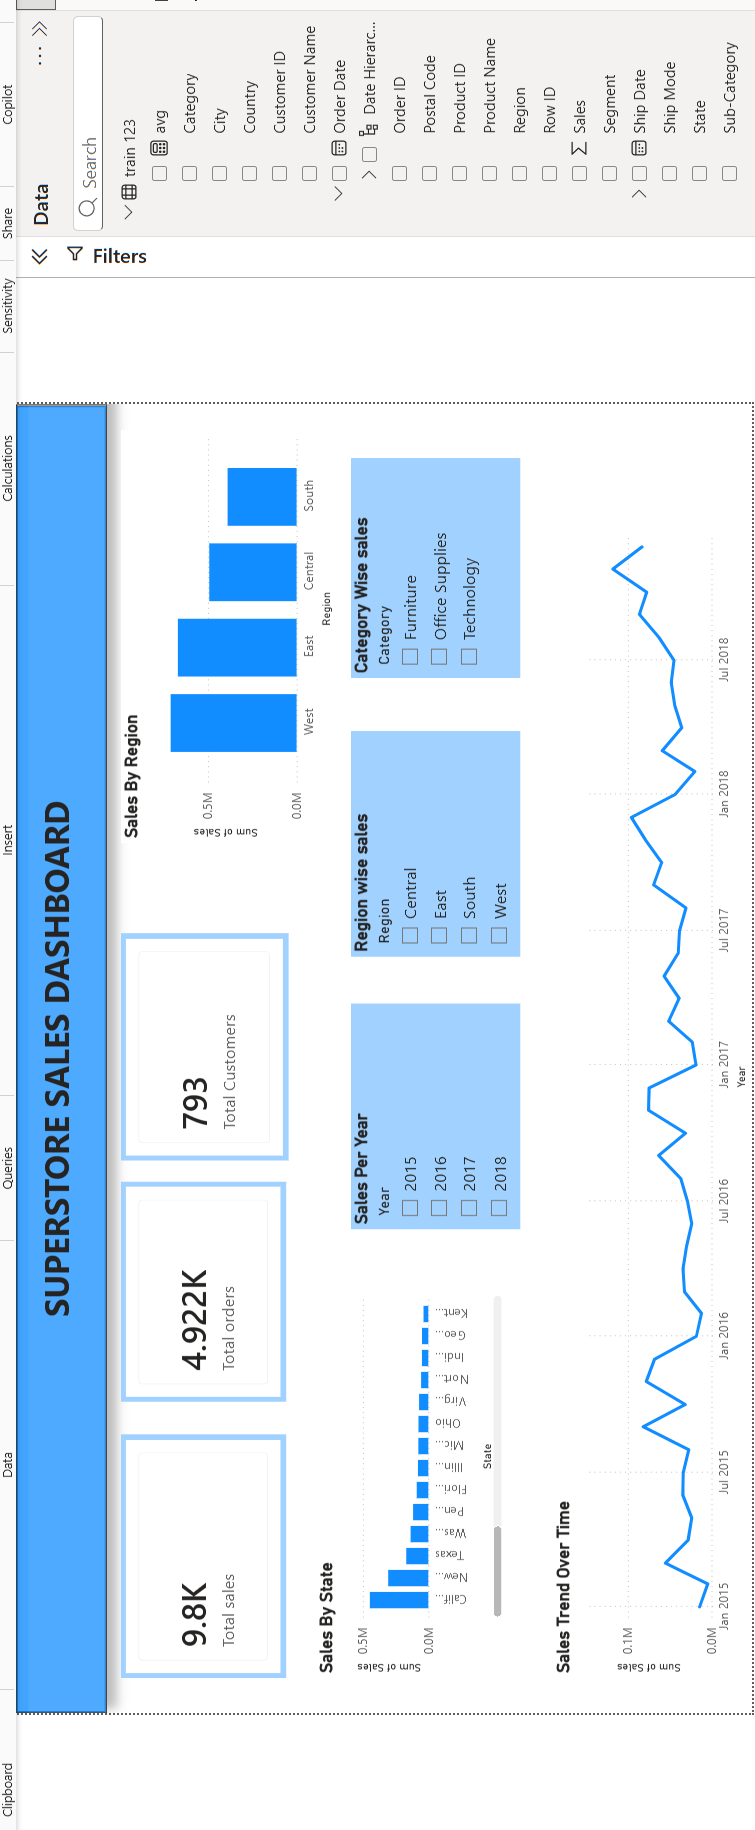

The dashboard page shown, as its layout file describes it:
{"tool":"powerbi","page":{"name":"Page 1","canvas":[1280,720],"ordinal":0},"visuals":[{"type":"shape","box":[0,0,1279.7,89],"z":0},{"type":"textbox","box":[0,12.5,1279.7,76.5],"z":1000},{"type":"cardVisual","fields":{"Data":["CountNonNull(train 123.Sales)"]},"box":[33.8,103.2,238.5,162],"z":2000},{"type":"cardVisual","fields":{"Data":["Count(train 123.Order ID)"]},"box":[304.3,103.2,215.4,162],"z":3000},{"type":"cardVisual","fields":{"Data":["Count(train 123.Customer ID)"]},"box":[541.1,103.2,222.5,163.7],"z":4000},{"type":"lineChart","title":"Sales Trend Over Time","fields":{"Y":["Sum(train 123.Sales)"],"Category":["train 123.Order Date.Variation.Date Hierarchy.Year","train 123.Order Date.Variation.Date Hierarchy.Month"]},"box":[33.8,525,1133.7,195.8],"z":4001},{"type":"clusteredColumnChart","title":" Sales By State","fields":{"Category":["train 123.State"],"Y":["Sum(train 123.Sales)"]},"box":[33.8,293.7,379.1,186.9],"z":4002},{"type":"clusteredColumnChart","title":" Sales By  Region","fields":{"Y":["Sum(train 123.Sales)"],"Category":["train 123.Region"]},"box":[850.7,103.2,404,211.8],"z":4003},{"type":"slicer","title":"Sales Per Year","fields":{"Values":["train 123.Order Date.Variation.Date Hierarchy.Year"]},"box":[473.4,327.5,220.7,165.5],"z":4004},{"type":"slicer","title":"Region wise sales","fields":{"Values":["train 123.Region"]},"box":[740.4,327.5,220.7,165.5],"z":4005},{"type":"slicer","title":"Category Wise sales","fields":{"Values":["train 123.Category"]},"box":[1012.7,327.5,215.4,165.5],"z":4006}]}

Visuals, with their boxes on the page's 1280x720 design canvas (x1, y1, x2, y2). These are canvas units, not pixel positions in the 755x1830 screenshot, which may show the page scaled, cropped or inside an application window:
shape: rect(0, 0, 1280, 89)
textbox: rect(0, 12, 1280, 89)
cardVisual - CountNonNull(train 123.Sales): rect(34, 103, 272, 265)
cardVisual - Count(train 123.Order ID): rect(304, 103, 520, 265)
cardVisual - Count(train 123.Customer ID): rect(541, 103, 764, 267)
"Sales Trend Over Time" lineChart: rect(34, 525, 1168, 721)
" Sales By State" clusteredColumnChart: rect(34, 294, 413, 481)
" Sales By  Region" clusteredColumnChart: rect(851, 103, 1255, 315)
"Sales Per Year" slicer: rect(473, 328, 694, 493)
"Region wise sales" slicer: rect(740, 328, 961, 493)
"Category Wise sales" slicer: rect(1013, 328, 1228, 493)
